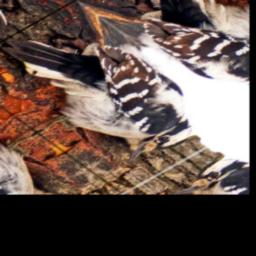Woodpecker: (0, 2, 235, 186)
